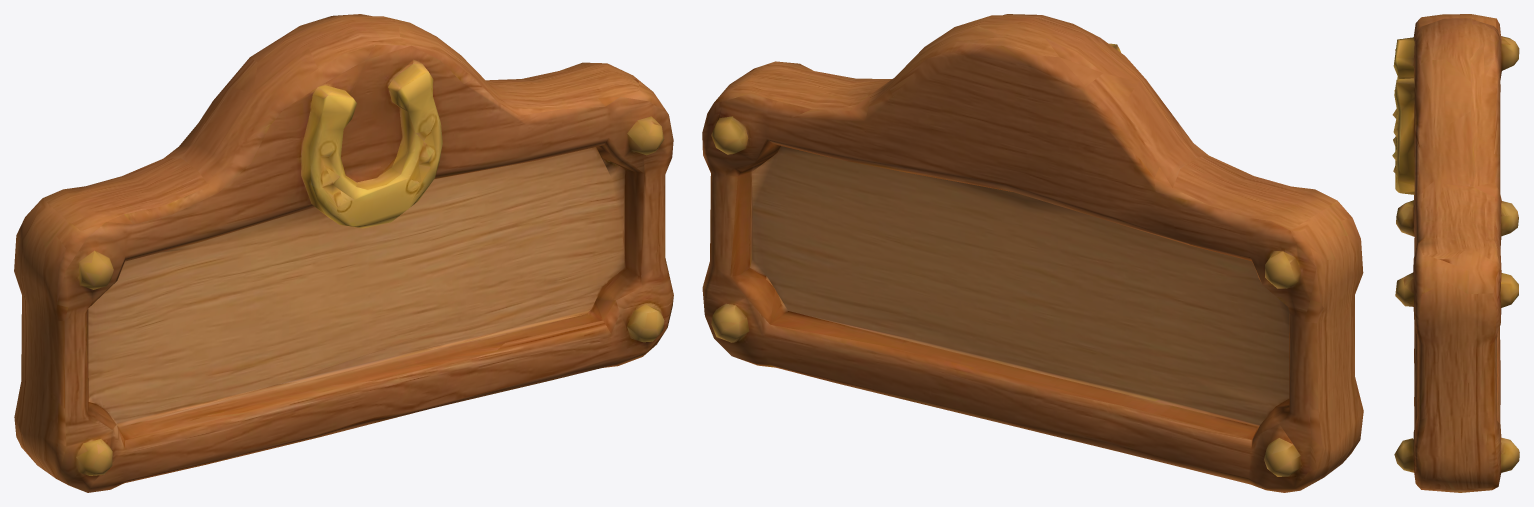
3 views of the same model, side by side, from view 1: azimuth 30°, elevation 25°; view 2: azimuth 150°, elevation 25°; view 3: azimuth 270°, elevation 25° (orthographic). The views are drawn at different scales.
Visible parts, largest first — view 1: plate-oak; view 2: plate-oak; view 3: plate-oak.
Boxes of the visible parts, x1,y1,x2,y2 form: plate-oak: (14,14,673,492); plate-oak: (702,14,1363,492); plate-oak: (1392,14,1519,492).
Bounding box in the file's own units: 1.2 × 0.719 × 0.2418.
1 material, 1 textured.
